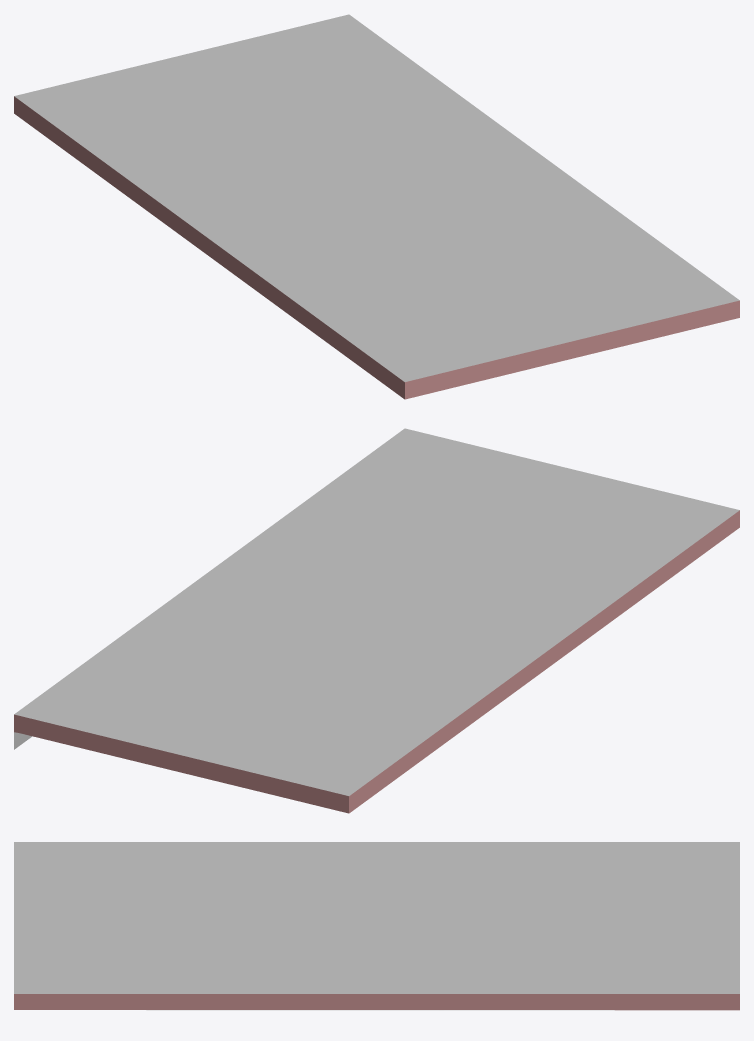
File: 21a96bfe-1d2f-4913-a727-8c72a07cf272-003cfc75.glb
3 renders of one model, top to bottom at view 1: azimuth 30°, elevation 25°; view 2: azimuth 150°, elevation 25°; view 3: azimuth 270°, elevation 25°, orthographic. The views are drawn at different scales.
Parts seen in each view (by area): view 1: sopnet4; view 2: sopnet4; view 3: sopnet4.
Part boxes in pixels (bbox=[...]): sopnet4: bbox=[14, 14, 739, 399]; sopnet4: bbox=[14, 428, 739, 813]; sopnet4: bbox=[14, 842, 739, 1010].
Bounding box in the file's own units: 3.66 × 0.37 × 7.39.
